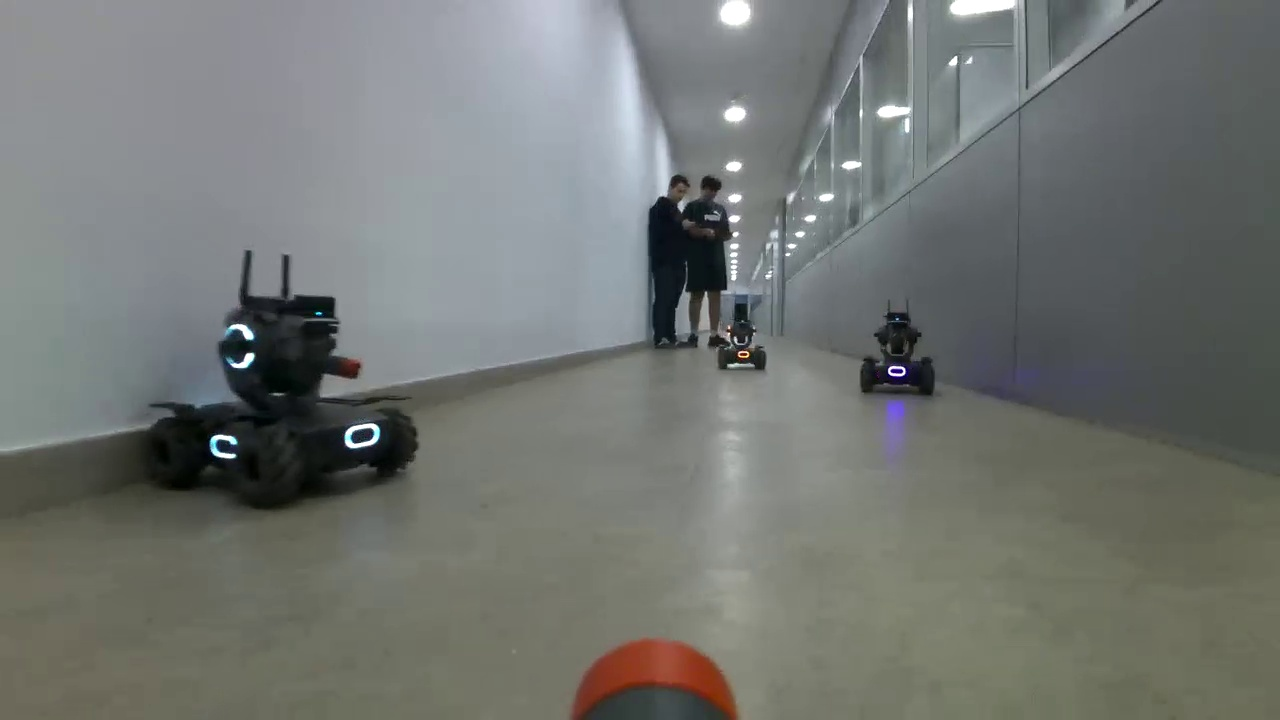robot: (139, 292, 423, 512), (860, 313, 937, 398), (716, 320, 768, 372)
